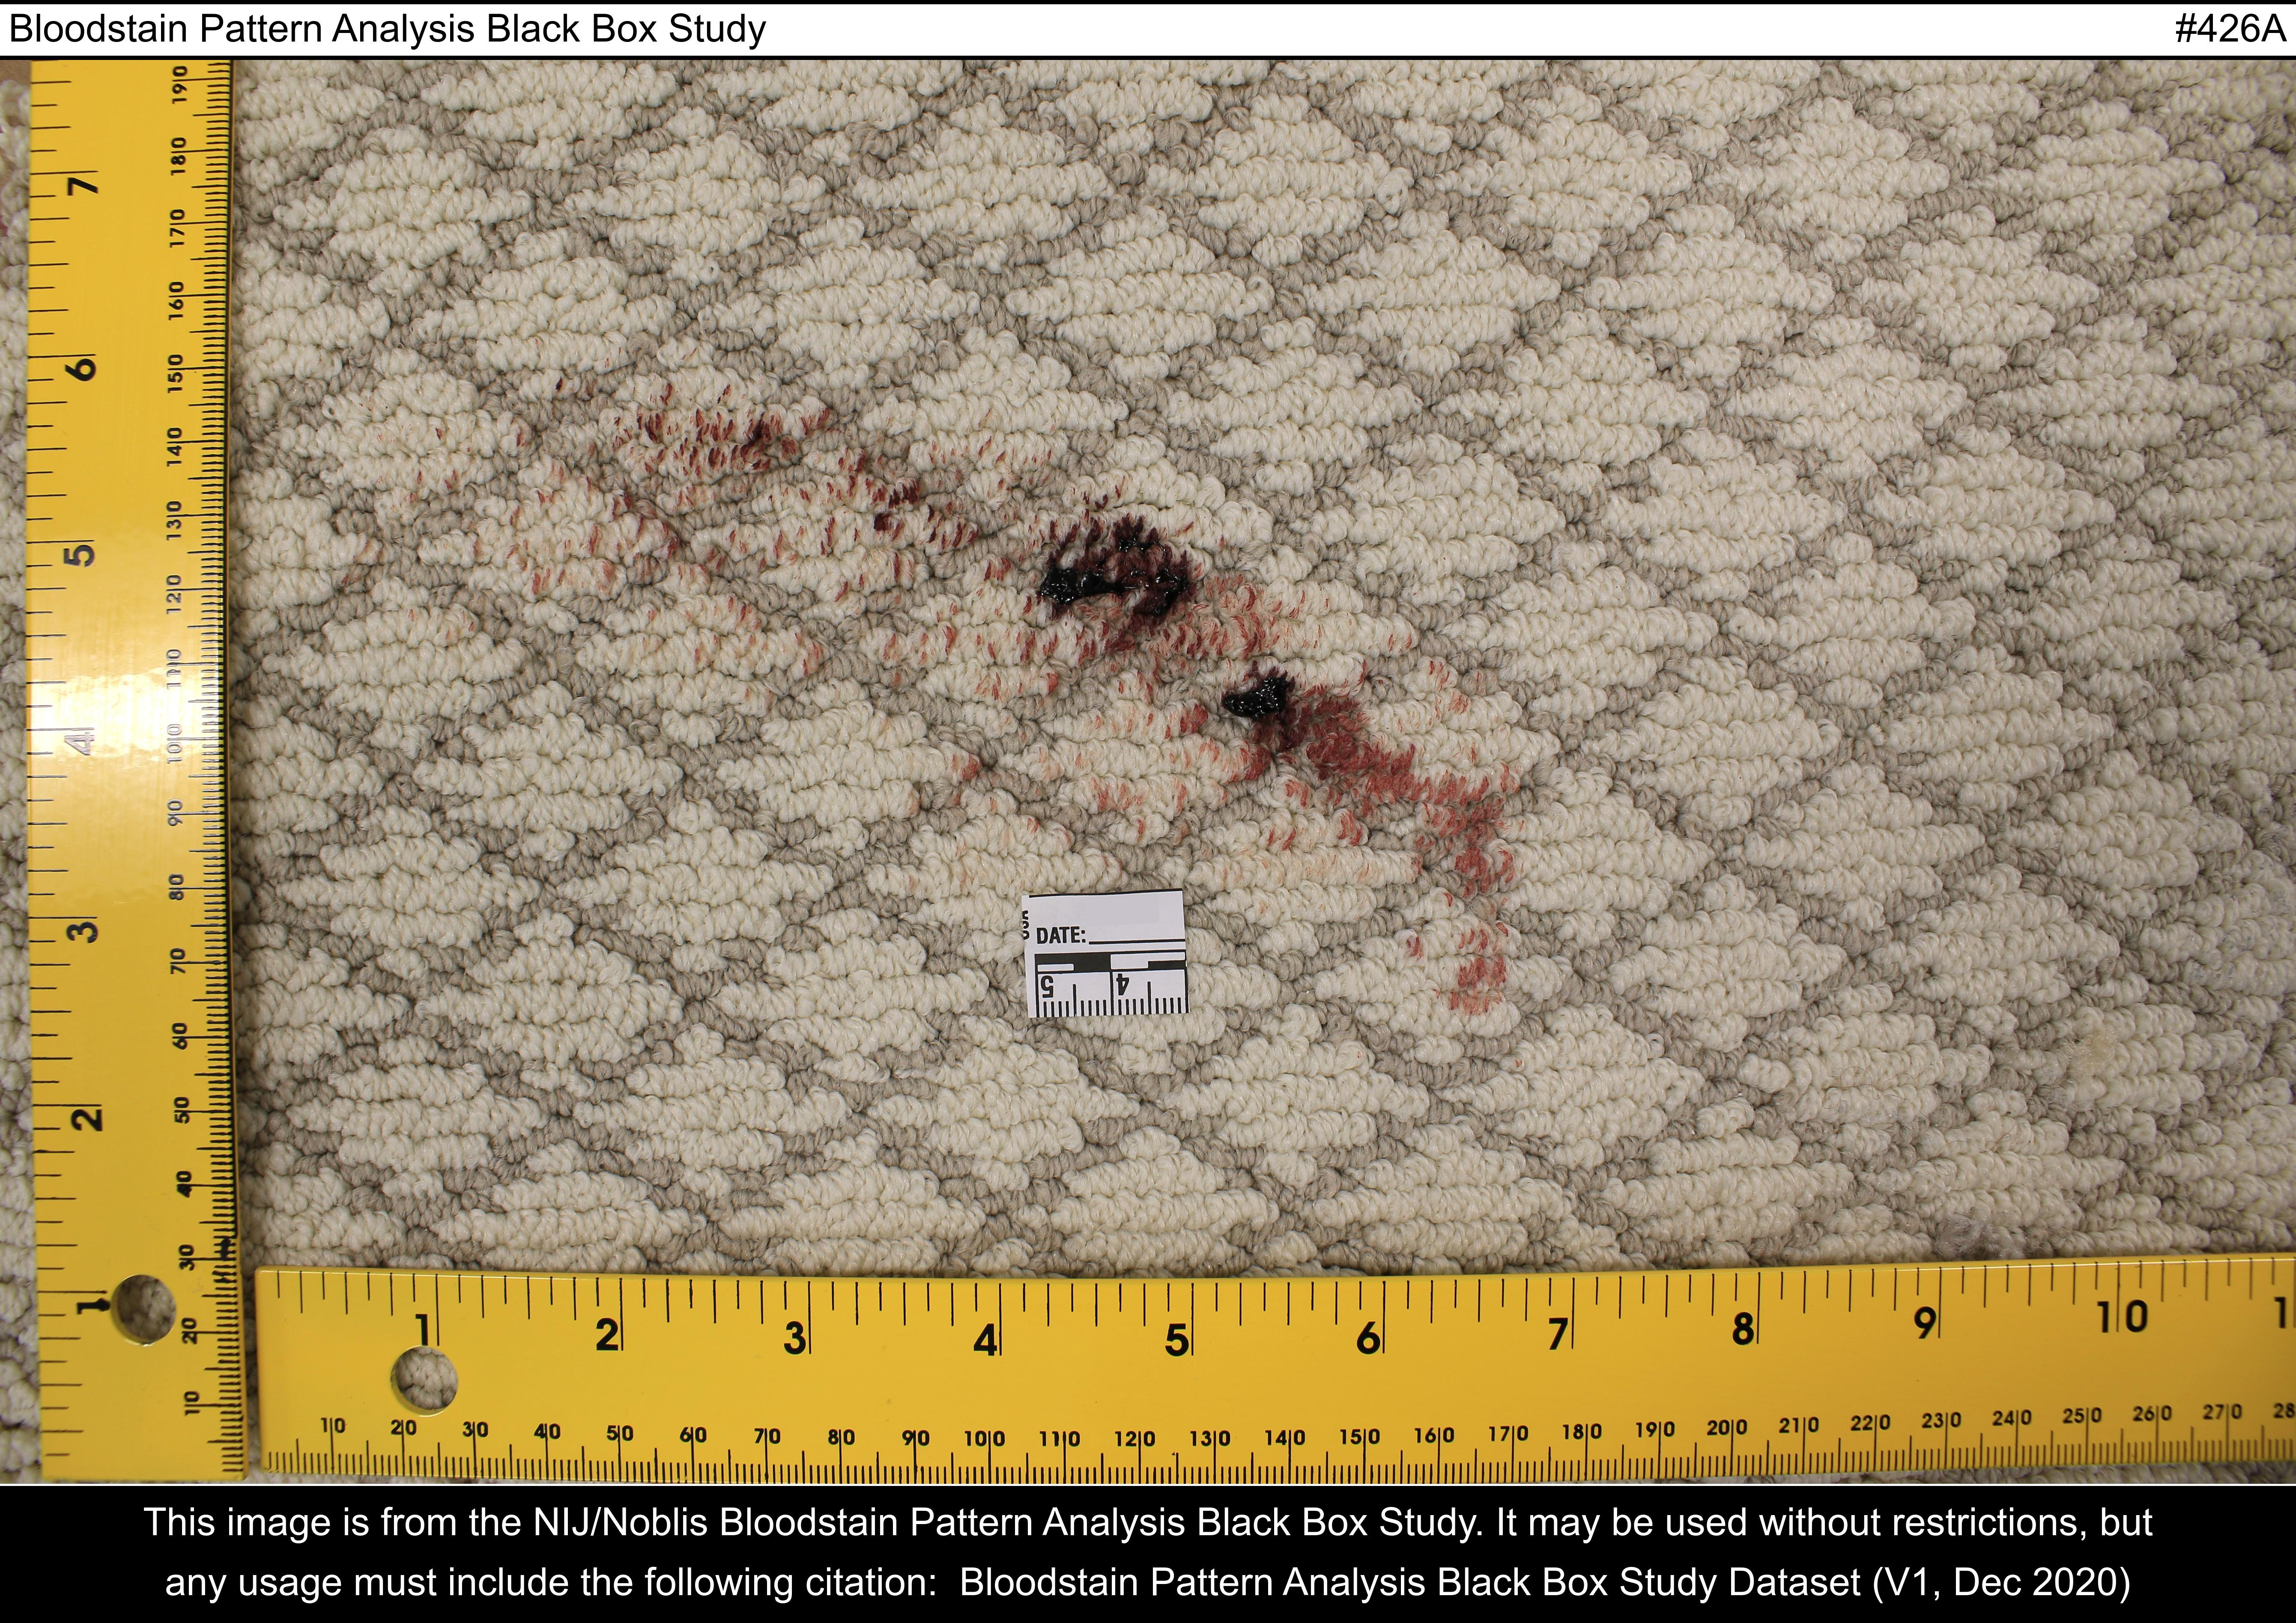Transfer: (1049, 511, 1321, 750)
